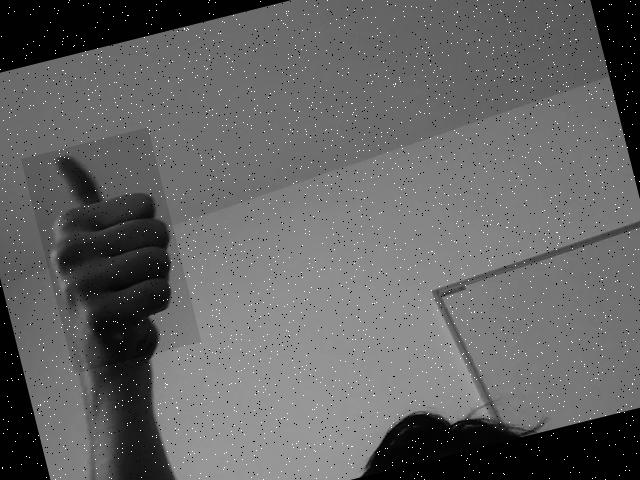good: (39, 151, 182, 369)
